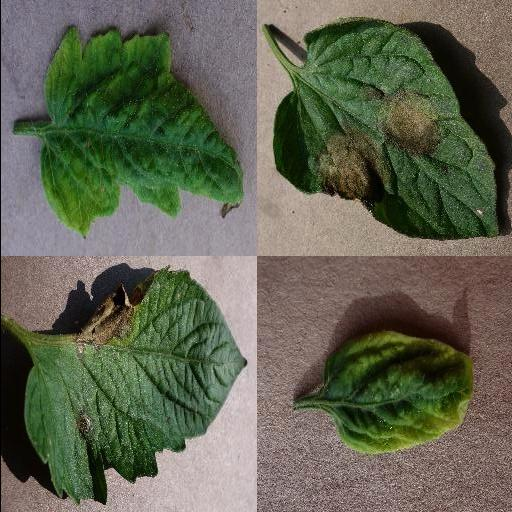Late Blight: (21, 267, 249, 505), (273, 9, 501, 241)
Yellow Leaf Curl Virus: (39, 23, 245, 241), (323, 334, 471, 452)
